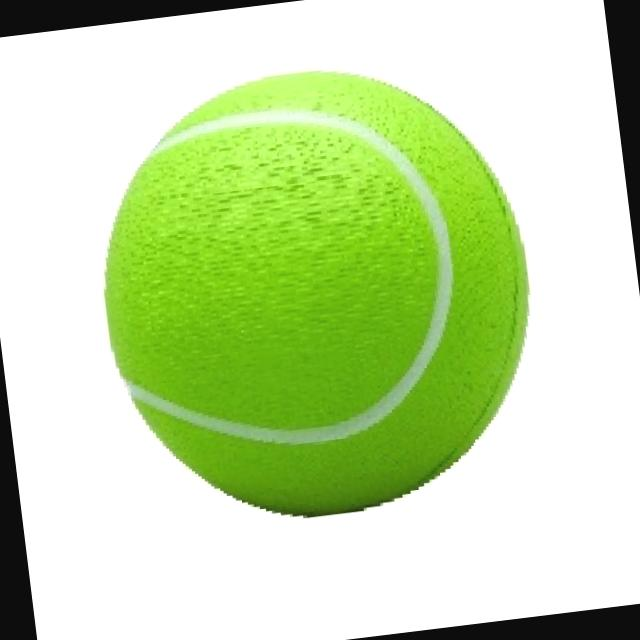Tennis Ball: (103, 72, 530, 521)
